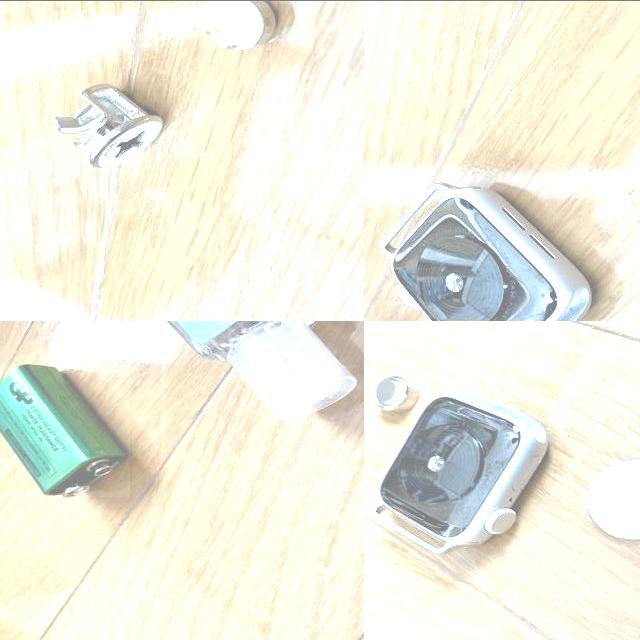9V: (0, 363, 130, 496)
